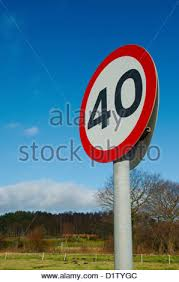Speed_limit_40km: (77, 45, 159, 167)
